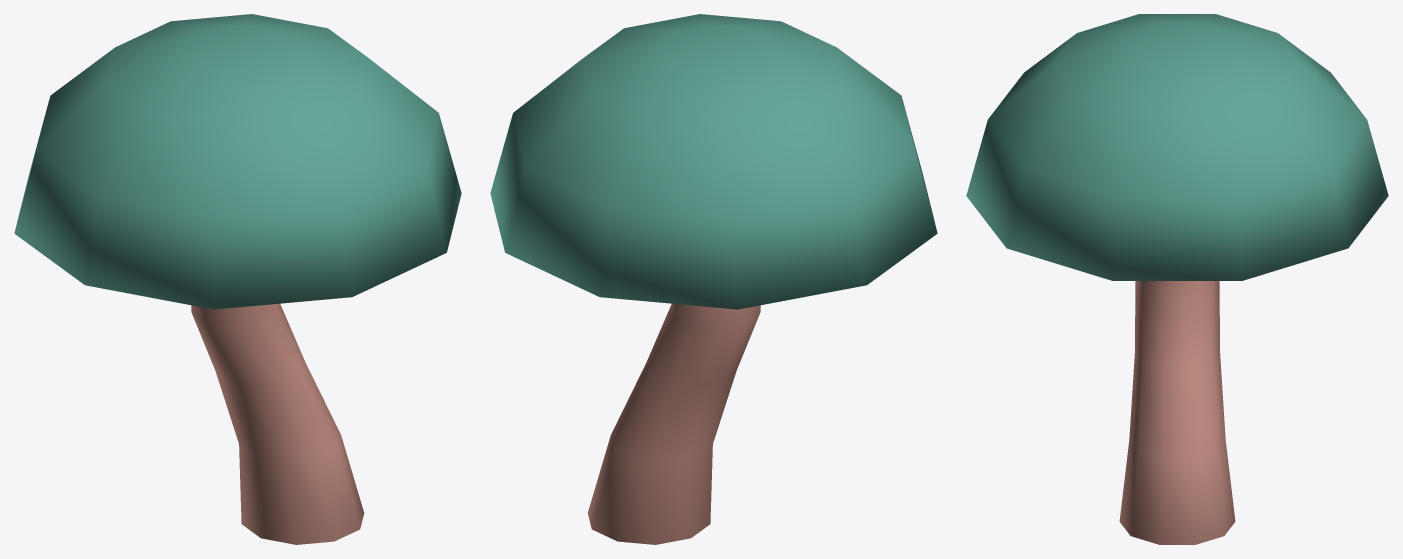
Rendered from Mushroom_Turquoise_Tall_3.fbx.
The picture shows the model from 3 angles, left to right: view 1: azimuth 30°, elevation 25°; view 2: azimuth 150°, elevation 25°; view 3: azimuth 270°, elevation 25°; orthographic projection. The views are drawn at different scales.
Parts seen in each view (by area): view 1: Cylinder.559, Cylinder.560; view 2: Cylinder.559, Cylinder.560; view 3: Cylinder.559, Cylinder.560.
Part boxes in pixels (x1,y1,x2,y2): Cylinder.559: (14, 14, 461, 309); Cylinder.560: (191, 303, 364, 544); Cylinder.559: (490, 14, 937, 309); Cylinder.560: (587, 303, 760, 544); Cylinder.559: (966, 14, 1388, 280); Cylinder.560: (1119, 281, 1235, 544).
Size of the model in its own units: 77.71 by 95.82 by 81.71.
